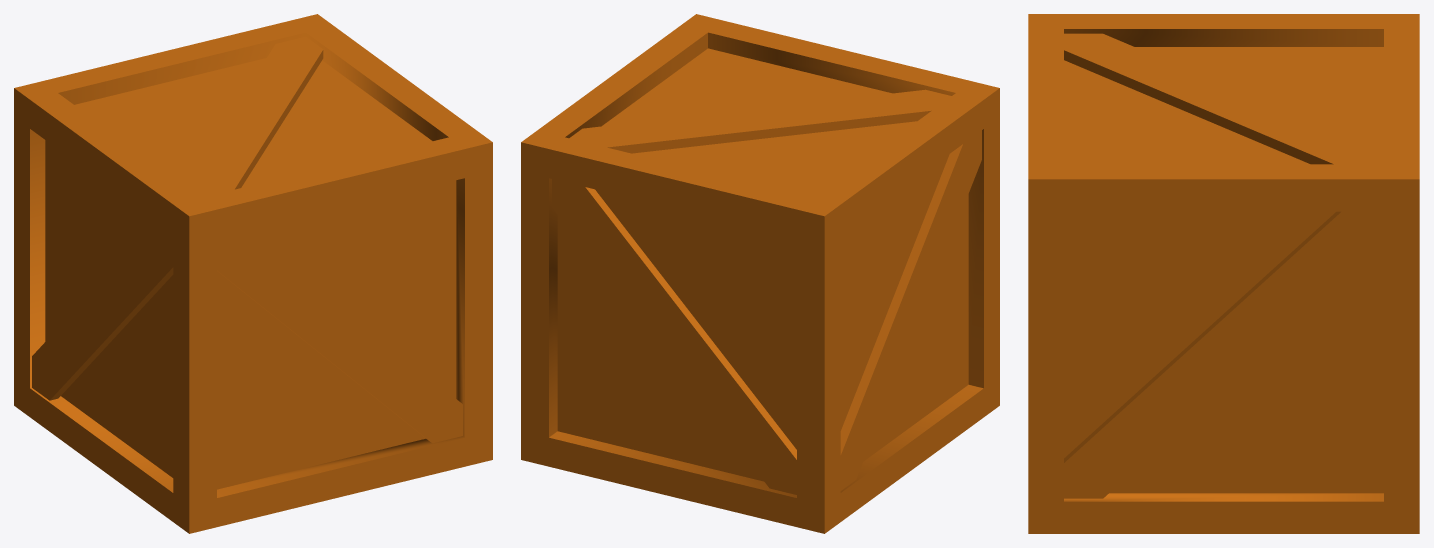
File: Prop_Box_Wood_F.fbx
3 views of the same model, side by side, from view 1: azimuth 30°, elevation 25°; view 2: azimuth 150°, elevation 25°; view 3: azimuth 270°, elevation 25° (orthographic). The views are drawn at different scales.
Parts seen in each view (by area): view 1: Prop_Box_Wood_F; view 2: Prop_Box_Wood_F; view 3: Prop_Box_Wood_F.
Part boxes in pixels (x1,y1,x2,y2): Prop_Box_Wood_F: (14, 14, 492, 533); Prop_Box_Wood_F: (521, 14, 999, 533); Prop_Box_Wood_F: (1028, 14, 1419, 533).
Size of the model in its own units: 66.92 by 66.92 by 66.92.
